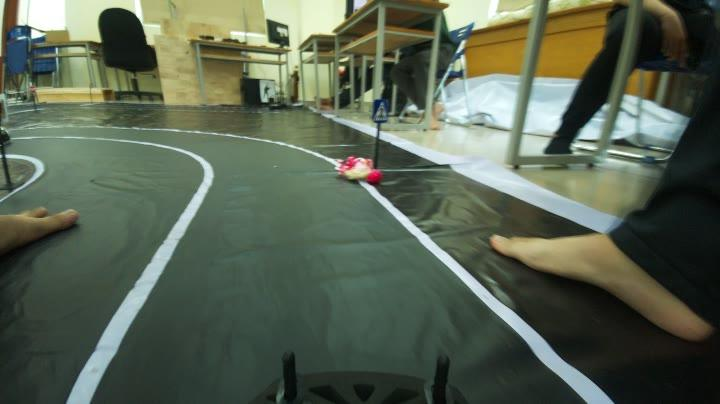crosswalk: (369, 98, 394, 126)
